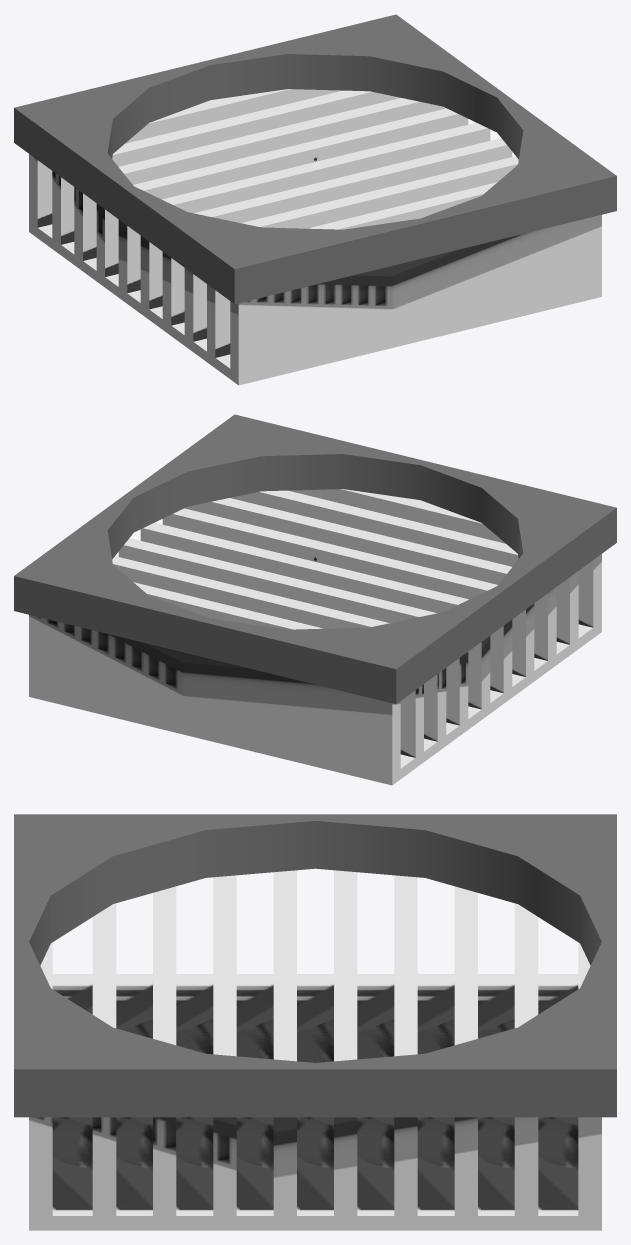
File: ServerFan.fbx
3 views of the same model, one above another, from view 1: azimuth 30°, elevation 25°; view 2: azimuth 150°, elevation 25°; view 3: azimuth 270°, elevation 25° (orthographic). The views are drawn at different scales.
Parts seen in each view (by area): view 1: Metal, Fan; view 2: Metal, Fan; view 3: Metal, Fan.
Part boxes in pixels (x1,y1,x2,y2): Metal: (29, 89, 601, 385); Fan: (14, 14, 616, 304); Metal: (29, 489, 601, 785); Fan: (14, 414, 616, 704); Metal: (29, 870, 601, 1230); Fan: (14, 814, 616, 1117).
Size of the model in its own units: 47.69 by 14.62 by 47.69.
